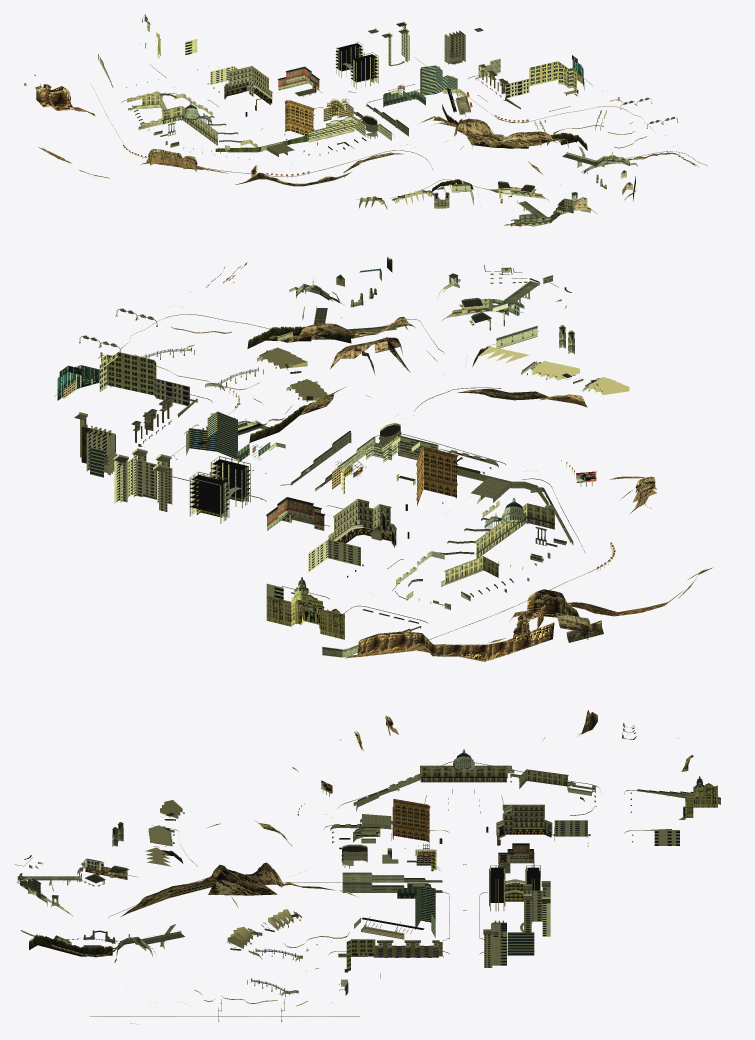
File: track-B2_C6_V2.glb
3 renders of one model, top to bottom at view 1: azimuth 30°, elevation 25°; view 2: azimuth 150°, elevation 25°; view 3: azimuth 270°, elevation 25°, orthographic. The views are drawn at different scales.
Parts seen in each view (by area): view 1: B2_C6_V2; view 2: B2_C6_V2; view 3: B2_C6_V2.
Part boxes in pixels (left/top/right/bottom): B2_C6_V2: left=24, top=14, right=706, bottom=226; B2_C6_V2: left=54, top=257, right=713, bottom=661; B2_C6_V2: left=15, top=710, right=720, bottom=1024.
Size of the model in its own units: 1194 by 95.24 by 1185.
103 materials, 103 textured.
